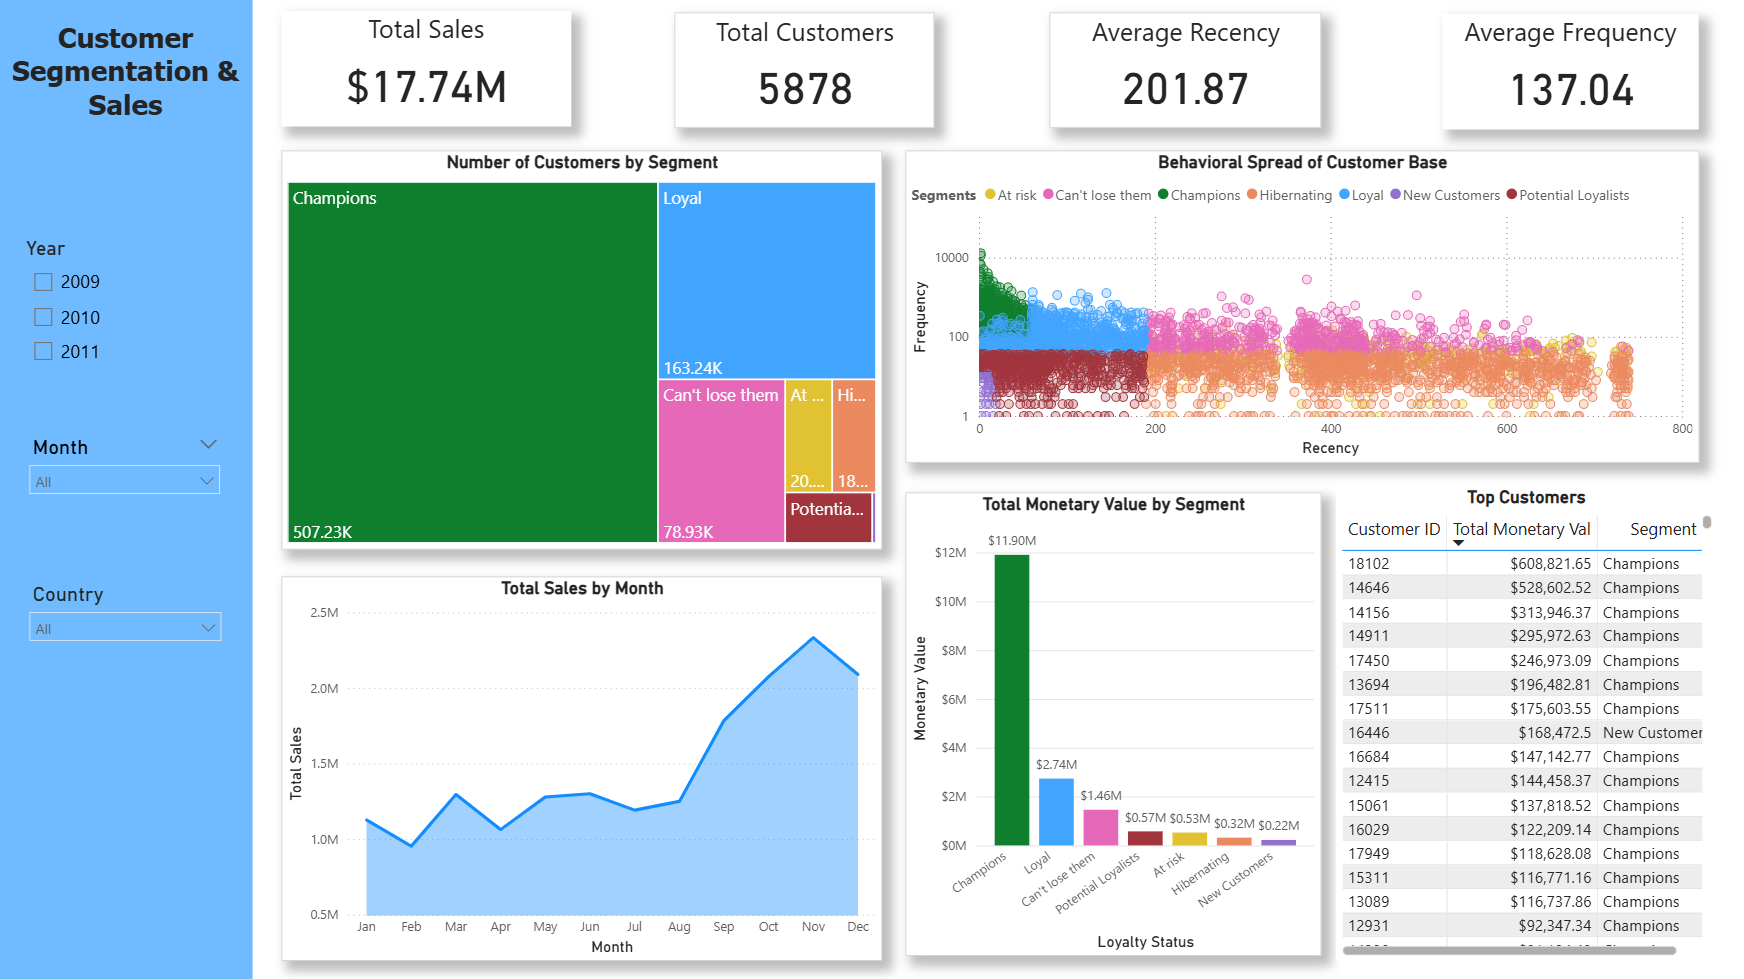

The page's visual inventory and layout, read from the dashboard file:
{"tool":"powerbi","page":{"name":"Customer Value & RFM Segmentation","canvas":[1664,936],"ordinal":0},"visuals":[{"type":"treemap","title":"Number of Customers by Segment","fields":{"Group":["public rfm_segment.rfm_segment"],"Values":["CountNonNull(public transactions.customer_id)"]},"box":[270,144,572,380],"z":0},{"type":"areaChart","title":"Total Sales by Month","fields":{"Category":["public transactions.short_month"],"Y":["Sum(public transactions.total_price)"]},"box":[270,550,572,366],"z":1000},{"type":"card","title":"Total Customers","fields":{"Values":["Count(public transactions.customer_id)"]},"box":[645,12.5,247.5,110],"z":2000},{"type":"card","title":"Average Recency","fields":{"Values":["Avg(public rfm_segment.recency)"]},"box":[1001.2,12.5,258.8,110],"z":3000},{"type":"scatterChart","title":"Behavioral Spread of Customer Base","fields":{"X":["public rfm_segment.recency"],"Series":["public rfm_segment.rfm_segment"],"Y":["public rfm_segment.frequency"]},"box":[864.3,144.3,755.7,297.1],"z":4000},{"type":"shape","box":[0,0,242.5,936.2],"z":5000},{"type":"textbox","box":[0,30,242.9,227.1],"z":6000},{"type":"slicer","fields":{"Values":["public transactions.country"]},"box":[20,550,202.9,110],"z":7000},{"type":"clusteredColumnChart","title":"Total Monetary Value by Segment","fields":{"Category":["public rfm_segment.rfm_segment"],"Y":["Sum(public rfm_segment.monetary_val)"]},"box":[864.3,470,395.7,441.4],"z":8000},{"type":"card","title":"Total Sales","fields":{"Values":["Sum(public transactions.total_price)"]},"box":[270,12,276,110],"z":9000},{"type":"slicer","fields":{"Values":["public transactions.invoice_date.Variation.Date Hierarchy.Month"]},"box":[20,410,201.4,108.6],"z":10000},{"type":"slicer","title":"Year","fields":{"Values":["public transactions.invoice_date.Variation.Date Hierarchy.Year"]},"box":[21.4,225.7,190,135.7],"z":11000},{"type":"card","title":"Average Frequency","fields":{"Values":["Avg(public rfm_segment.frequency)"]},"box":[1376,14,244,110],"z":12000},{"type":"tableEx","title":"Top Customers","fields":{"Values":["public rfm_segment.customer_id","public rfm_segment.monetary_val","public rfm_segment.rfm_segment"]},"box":[1274.3,464.3,362.9,451.4],"z":13000}]}

Visuals, with their boxes in screenshot pixels (x1, y1, x2, y2), scaled from the page's 1664x936 canvas onto the 1744x979 screenshot:
"Number of Customers by Segment" treemap: bbox(283, 151, 882, 548)
"Total Sales by Month" areaChart: bbox(283, 575, 882, 958)
"Total Customers" card: bbox(676, 13, 935, 128)
"Average Recency" card: bbox(1049, 13, 1321, 128)
"Behavioral Spread of Customer Base" scatterChart: bbox(906, 151, 1698, 462)
shape: bbox(0, 0, 254, 978)
textbox: bbox(0, 31, 255, 269)
slicer - public transactions.country: bbox(21, 575, 234, 690)
"Total Monetary Value by Segment" clusteredColumnChart: bbox(906, 492, 1321, 953)
"Total Sales" card: bbox(283, 13, 572, 128)
slicer - public transactions.invoice_date.Variation.Date Hierarchy.Month: bbox(21, 429, 232, 542)
"Year" slicer: bbox(22, 236, 222, 378)
"Average Frequency" card: bbox(1442, 15, 1698, 130)
"Top Customers" tableEx: bbox(1336, 486, 1716, 958)
